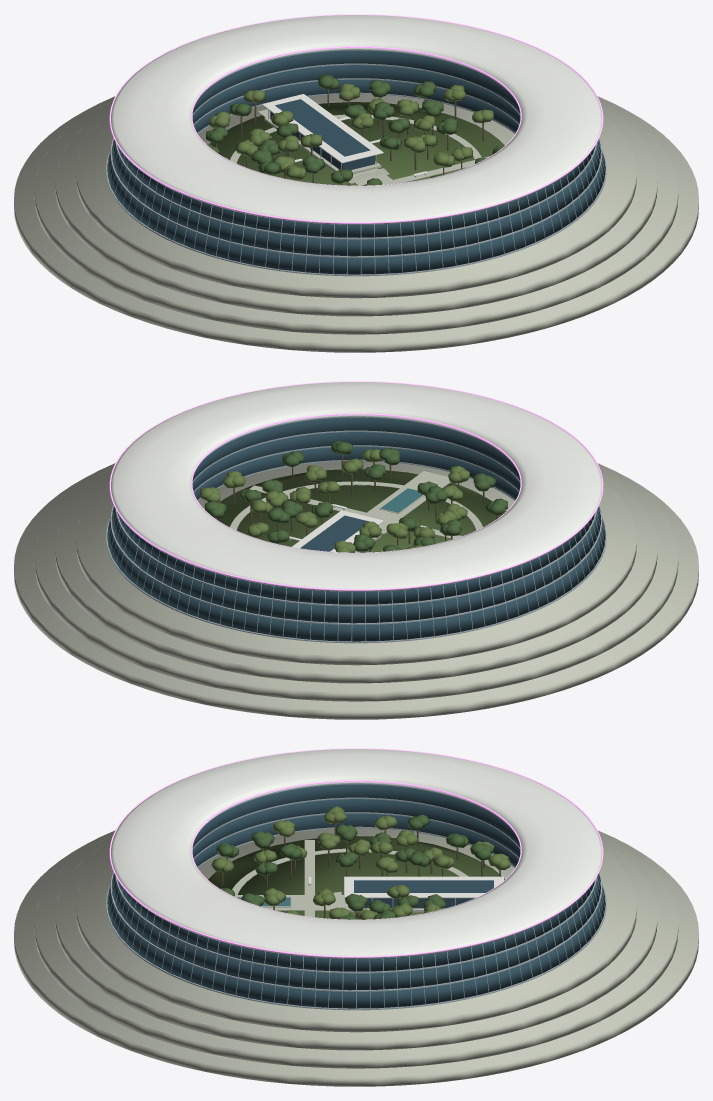
Rendered from ring-low.glb.
3 renders of one model, top to bottom at view 1: azimuth 30°, elevation 25°; view 2: azimuth 150°, elevation 25°; view 3: azimuth 270°, elevation 25°, orthographic.
Parts seen in each view (by area): view 1: ring / Ring limestone paving, ring / Ring porcelain crown, ring / Ring blue glazing, ring / Ring silver framing, ring / Ring meadow, ring / Ring canopy 1, ring / Ring canopy 0, ring / Ring violet edge, ring / Ring tree bark; view 2: ring / Ring limestone paving, ring / Ring porcelain crown, ring / Ring blue glazing, ring / Ring silver framing, ring / Ring meadow, ring / Ring canopy 0, ring / Ring canopy 1, ring / Ring violet edge, ring / Ring tree bark; view 3: ring / Ring limestone paving, ring / Ring porcelain crown, ring / Ring blue glazing, ring / Ring silver framing, ring / Ring meadow, ring / Ring canopy 1, ring / Ring canopy 0, ring / Ring violet edge, ring / Ring tree bark.
Boxes of the visible parts, x1,y1,x2,y2 form: ring / Ring limestone paving: [14, 94, 698, 352]; ring / Ring porcelain crown: [111, 15, 601, 224]; ring / Ring blue glazing: [107, 50, 605, 274]; ring / Ring silver framing: [106, 48, 606, 276]; ring / Ring meadow: [209, 102, 504, 185]; ring / Ring canopy 1: [209, 84, 493, 185]; ring / Ring canopy 0: [205, 74, 503, 185]; ring / Ring violet edge: [109, 14, 603, 223]; ring / Ring tree bark: [215, 89, 483, 185]; ring / Ring limestone paving: [14, 461, 698, 719]; ring / Ring porcelain crown: [111, 382, 601, 591]; ring / Ring blue glazing: [107, 417, 605, 641]; ring / Ring silver framing: [106, 415, 606, 643]; ring / Ring meadow: [216, 469, 501, 552]; ring / Ring canopy 0: [204, 441, 507, 551]; ring / Ring canopy 1: [199, 449, 506, 552]; ring / Ring violet edge: [109, 381, 603, 590]; ring / Ring tree bark: [215, 454, 497, 552]; ring / Ring limestone paving: [14, 828, 698, 1086]; ring / Ring porcelain crown: [111, 749, 601, 958]; ring / Ring blue glazing: [107, 784, 605, 1008]; ring / Ring silver framing: [106, 782, 606, 1010]; ring / Ring meadow: [208, 836, 504, 919]; ring / Ring canopy 1: [211, 806, 510, 919]; ring / Ring canopy 0: [216, 814, 492, 919]; ring / Ring violet edge: [109, 748, 603, 957]; ring / Ring tree bark: [221, 823, 500, 918].
Size of the model in its own units: 132 by 20.35 by 132.
